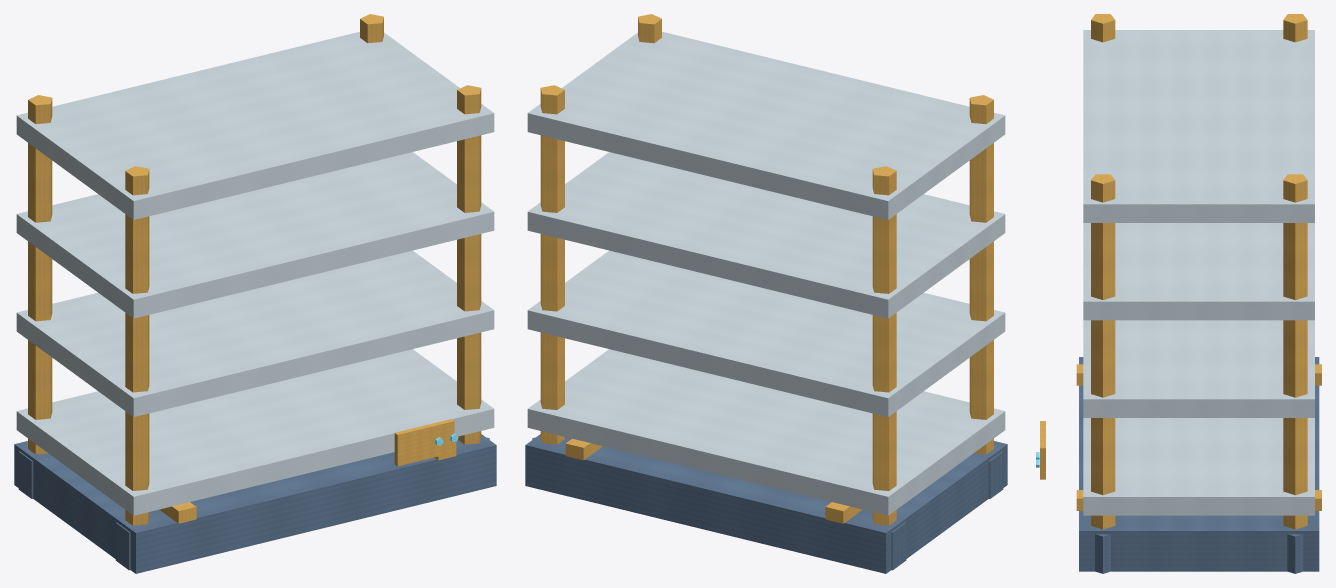
The model's file is atlas100-s052-a06.lod1.glb.
The picture shows the model from 3 angles, left to right: view 1: azimuth 30°, elevation 25°; view 2: azimuth 150°, elevation 25°; view 3: azimuth 270°, elevation 25°; orthographic projection.
Parts seen in each view (by area): view 1: atlas100-s052-a06:part-014, atlas100-s052-a06:part-013, atlas100-s052-a06:part-012, atlas100-s052-a06:part-011, atlas100-s052-a06:part-000, atlas100-s052-a06:part-005, atlas100-s052-a06:part-009, atlas100-s052-a06:part-003, atlas100-s052-a06:part-015, atlas100-s052-a06:part-007, atlas100-s052-a06:part-006, atlas100-s052-a06:part-004; view 2: atlas100-s052-a06:part-014, atlas100-s052-a06:part-013, atlas100-s052-a06:part-011, atlas100-s052-a06:part-012, atlas100-s052-a06:part-000, atlas100-s052-a06:part-003, atlas100-s052-a06:part-007, atlas100-s052-a06:part-005, atlas100-s052-a06:part-009, atlas100-s052-a06:part-004, atlas100-s052-a06:part-006; view 3: atlas100-s052-a06:part-014, atlas100-s052-a06:part-011, atlas100-s052-a06:part-013, atlas100-s052-a06:part-012, atlas100-s052-a06:part-000, atlas100-s052-a06:part-007, atlas100-s052-a06:part-009, atlas100-s052-a06:part-008, atlas100-s052-a06:part-003, atlas100-s052-a06:part-005, atlas100-s052-a06:part-010.
Boxes of the visible parts, x1=… form: atlas100-s052-a06:part-014: x1=16, y1=31, x2=494, y2=219; atlas100-s052-a06:part-013: x1=16, y1=152, x2=494, y2=318; atlas100-s052-a06:part-012: x1=16, y1=250, x2=494, y2=416; atlas100-s052-a06:part-011: x1=16, y1=349, x2=494, y2=515; atlas100-s052-a06:part-000: x1=14, y1=434, x2=496, y2=573; atlas100-s052-a06:part-005: x1=125, y1=166, x2=149, y2=525; atlas100-s052-a06:part-009: x1=457, y1=85, x2=481, y2=444; atlas100-s052-a06:part-003: x1=28, y1=95, x2=52, y2=454; atlas100-s052-a06:part-015: x1=394, y1=419, x2=454, y2=466; atlas100-s052-a06:part-007: x1=360, y1=14, x2=383, y2=43; atlas100-s052-a06:part-006: x1=115, y1=522, x2=130, y2=570; atlas100-s052-a06:part-004: x1=18, y1=451, x2=33, y2=498; atlas100-s052-a06:part-014: x1=527, y1=31, x2=1005, y2=219; atlas100-s052-a06:part-013: x1=527, y1=152, x2=1005, y2=318; atlas100-s052-a06:part-011: x1=527, y1=349, x2=1005, y2=515; atlas100-s052-a06:part-012: x1=527, y1=250, x2=1005, y2=416; atlas100-s052-a06:part-000: x1=525, y1=434, x2=1007, y2=573; atlas100-s052-a06:part-003: x1=872, y1=166, x2=896, y2=525; atlas100-s052-a06:part-007: x1=540, y1=85, x2=564, y2=444; atlas100-s052-a06:part-005: x1=969, y1=95, x2=993, y2=454; atlas100-s052-a06:part-009: x1=638, y1=14, x2=661, y2=43; atlas100-s052-a06:part-004: x1=891, y1=522, x2=906, y2=570; atlas100-s052-a06:part-006: x1=988, y1=451, x2=1003, y2=498; atlas100-s052-a06:part-014: x1=1083, y1=30, x2=1314, y2=222; atlas100-s052-a06:part-011: x1=1083, y1=418, x2=1314, y2=515; atlas100-s052-a06:part-013: x1=1083, y1=223, x2=1314, y2=320; atlas100-s052-a06:part-012: x1=1083, y1=320, x2=1314, y2=417; atlas100-s052-a06:part-000: x1=1079, y1=357, x2=1319, y2=571; atlas100-s052-a06:part-007: x1=1283, y1=174, x2=1307, y2=529; atlas100-s052-a06:part-009: x1=1091, y1=174, x2=1115, y2=529; atlas100-s052-a06:part-008: x1=1287, y1=534, x2=1303, y2=573; atlas100-s052-a06:part-003: x1=1283, y1=14, x2=1307, y2=42; atlas100-s052-a06:part-005: x1=1091, y1=14, x2=1115, y2=42; atlas100-s052-a06:part-010: x1=1095, y1=534, x2=1110, y2=573.
Size of the model in its own units: 2.44 by 2.48 by 1.66.
4 materials, 4 textured.
